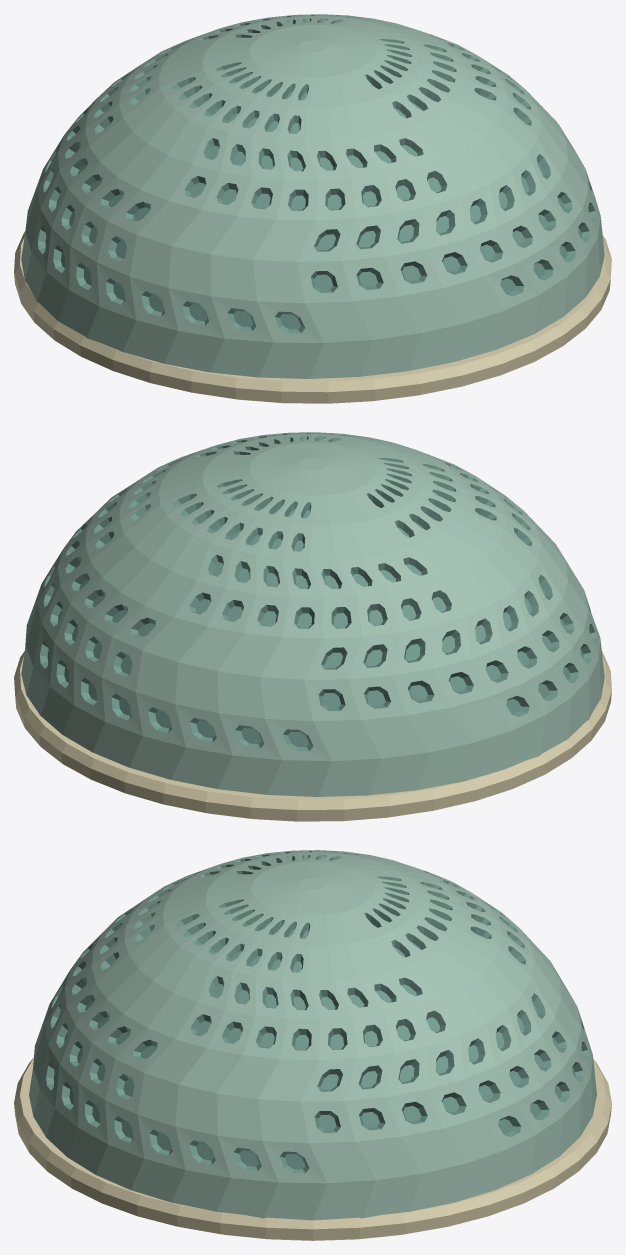
The model's file is prasopora.glb.
3 renders of one model, top to bottom at view 1: azimuth 30°, elevation 25°; view 2: azimuth 150°, elevation 25°; view 3: azimuth 270°, elevation 25°, orthographic.
Visible parts, largest first — view 1: Porous integrated bryozoan dome, Low epithecal basal rim; view 2: Porous integrated bryozoan dome, Low epithecal basal rim; view 3: Porous integrated bryozoan dome, Low epithecal basal rim.
Boxes of the visible parts, x1,y1,x2,y2 form: Porous integrated bryozoan dome: [21, 14, 604, 378]; Low epithecal basal rim: [14, 231, 611, 403]; Porous integrated bryozoan dome: [21, 432, 604, 796]; Low epithecal basal rim: [14, 651, 611, 821]; Porous integrated bryozoan dome: [29, 850, 596, 1220]; Low epithecal basal rim: [14, 1057, 611, 1240].
Bounding box in the file's own units: 0.061 × 0.027 × 0.061.
